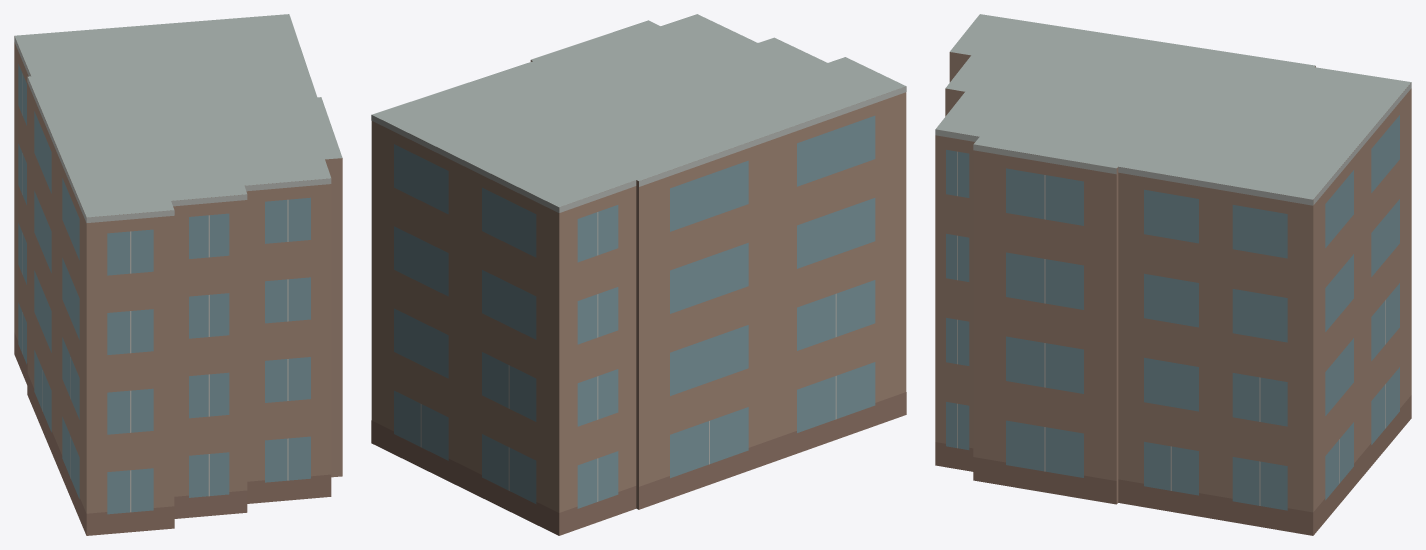
Rendered from survey-upis-32657850.glb.
3 renders of one model, left to right at view 1: azimuth 30°, elevation 25°; view 2: azimuth 150°, elevation 25°; view 3: azimuth 270°, elevation 25°, orthographic. The views are drawn at different scales.
Visible parts, largest first — view 1: survey-upis-32657850.tmp; view 2: survey-upis-32657850.tmp; view 3: survey-upis-32657850.tmp.
Part boxes in pixels (x1,y1,x2,y2): survey-upis-32657850.tmp: [14, 14, 342, 535]; survey-upis-32657850.tmp: [371, 14, 906, 535]; survey-upis-32657850.tmp: [935, 14, 1411, 535].
Size of the model in its own units: 16.31 by 13.75 by 17.66.
